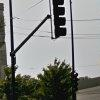Traffic light: (41, 1, 76, 49)
